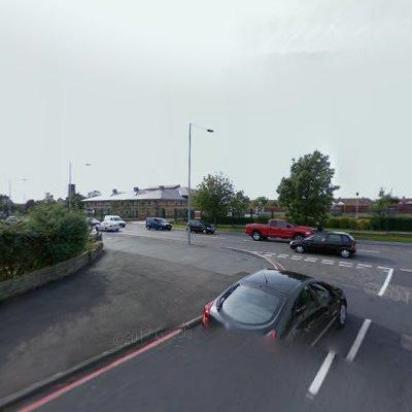moving-car: (198, 266, 348, 370), (290, 230, 358, 260), (242, 218, 316, 242), (186, 218, 219, 236), (95, 220, 119, 232)
stationary-light-truck-onstreet: (144, 216, 174, 232), (104, 214, 126, 226)
